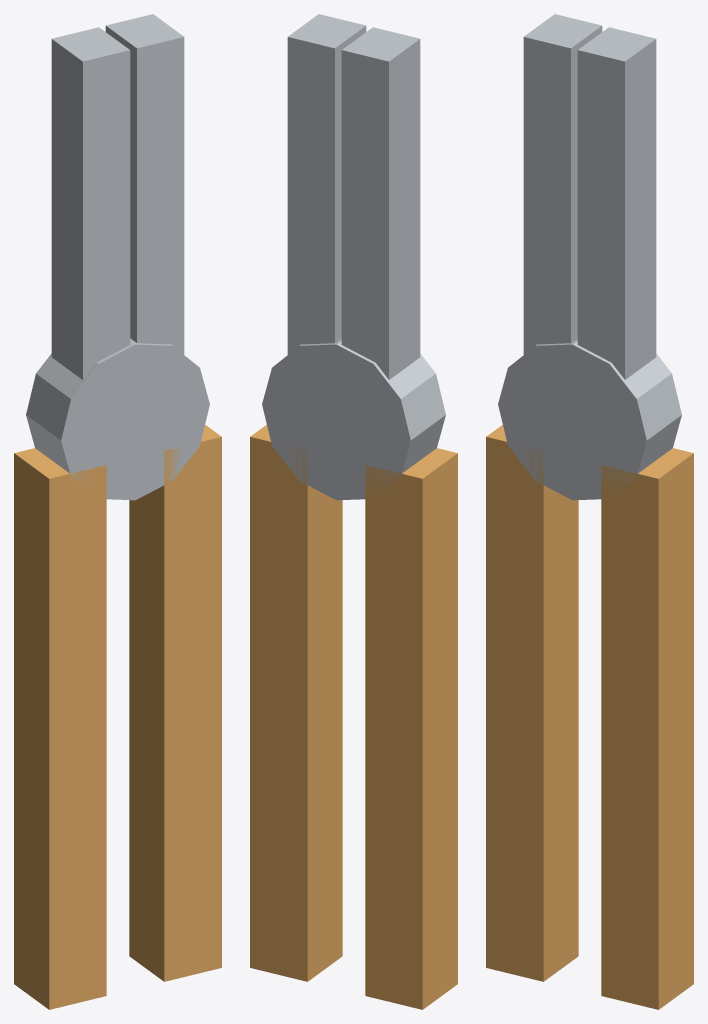
The model's file is pliers_jaws.glb.
3 views of the same model, side by side, from view 1: azimuth 30°, elevation 25°; view 2: azimuth 150°, elevation 25°; view 3: azimuth 330°, elevation 25° (orthographic).
Parts seen in each view (by area): view 1: HousingAccent, MetalBody; view 2: HousingAccent, MetalBody; view 3: HousingAccent, MetalBody.
Boxes of the visible parts, x1,y1,x2,y2 form: HousingAccent: (14, 425, 221, 1009); MetalBody: (26, 14, 209, 500); HousingAccent: (250, 425, 457, 1009); MetalBody: (262, 14, 445, 500); HousingAccent: (486, 425, 693, 1009); MetalBody: (498, 14, 681, 500).
Size of the model in its own units: 0.102 by 0.53 by 0.036.
